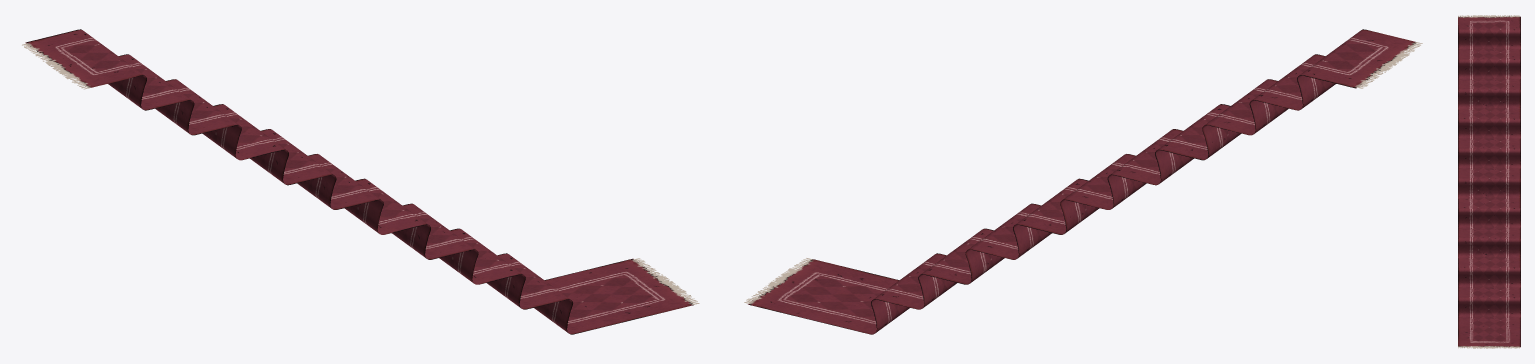
The model's file is CarpetHall_01.fbx.
3 renders of one model, left to right at view 1: azimuth 30°, elevation 25°; view 2: azimuth 150°, elevation 25°; view 3: azimuth 270°, elevation 25°, orthographic. The views are drawn at different scales.
Parts seen in each view (by area): view 1: Plane.149; view 2: Plane.149; view 3: Plane.149.
Boxes of the visible parts, x1,y1,x2,y2 form: Plane.149: [22, 29, 699, 334]; Plane.149: [744, 29, 1422, 334]; Plane.149: [1458, 15, 1520, 348].
Size of the model in its own units: 4137 by 2285 by 715.
